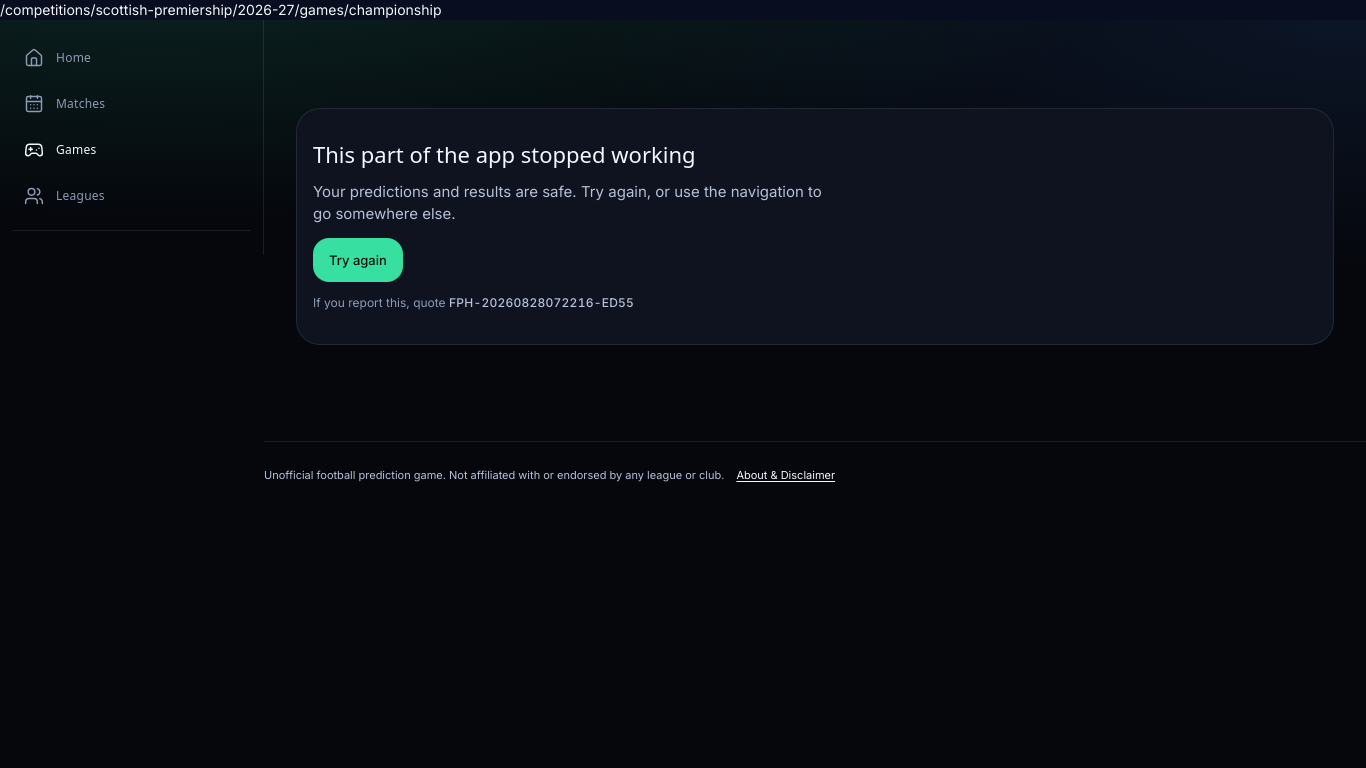
a vNext surface that throws › lets the player leave a broken destination and USE the working one
Expected: the text "This part of the app stopped working" is shown, x1=313 y1=141 x2=696 y2=169
Click the button "Matches": x=132, y=104 x1=12 y1=82 x2=251 y2=126
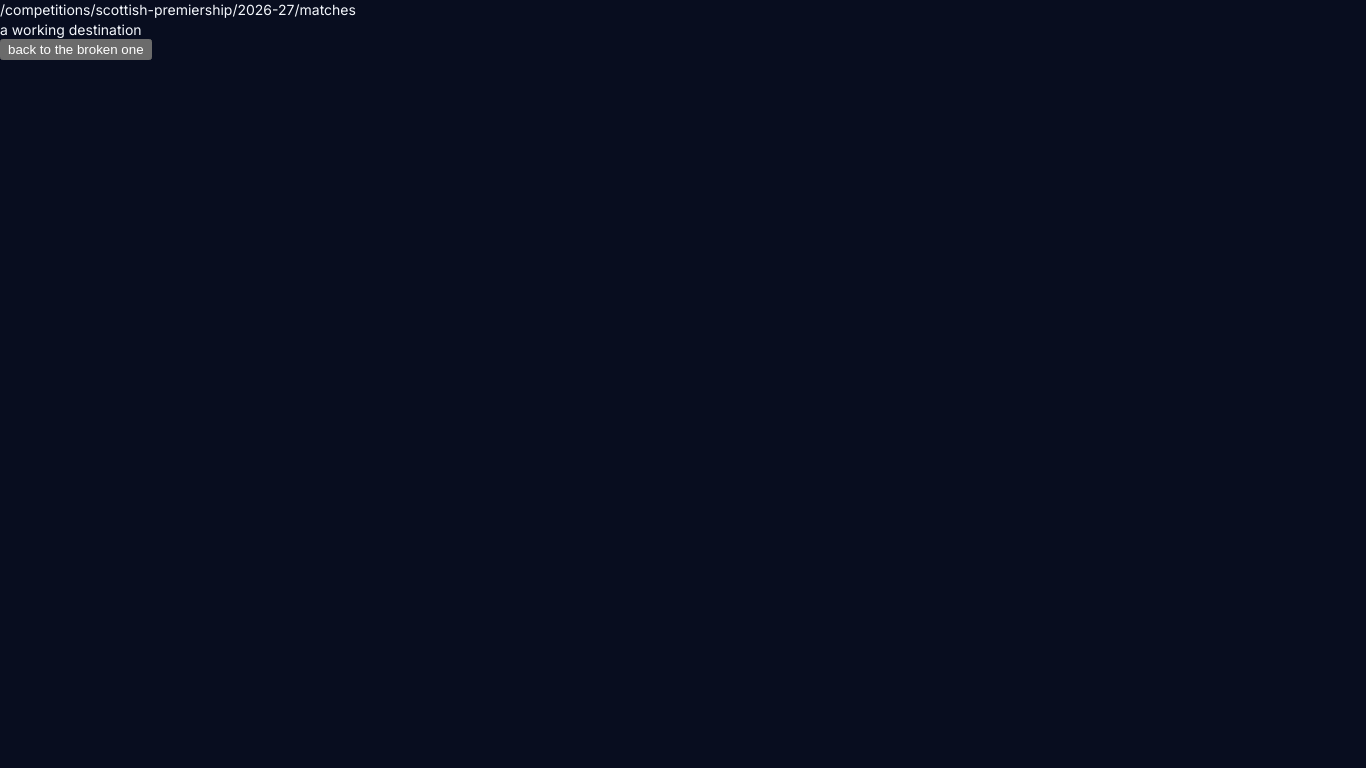
Now the text with test id "address" reads "/competitions/scottish-premiership/2026-27/matches", box x1=0 y1=1 x2=356 y2=18
Now the text "a working destination" is shown, box x1=0 y1=21 x2=142 y2=38
Now the text "This part of the app stopped working" is gone
